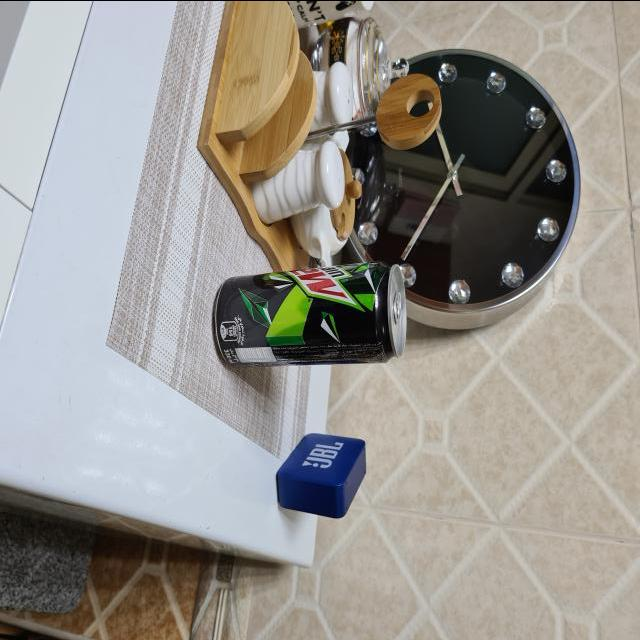can: (212, 264, 408, 368)
